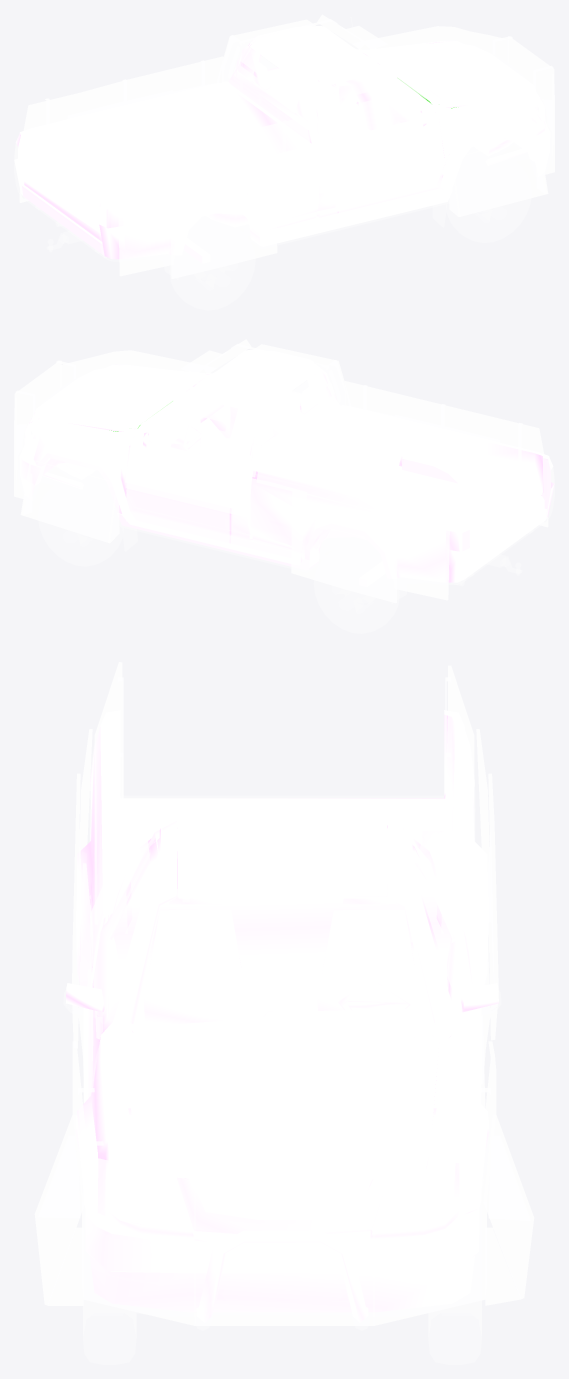
Rendered from Techie2.gltf.
The picture shows the model from 3 angles, top to bottom: view 1: azimuth 30°, elevation 25°; view 2: azimuth 150°, elevation 25°; view 3: azimuth 270°, elevation 25°; orthographic projection. The views are drawn at different scales.
Parts seen in each view (by area): view 1: Technical_2Seater_Col, SM_Technical_2Seater_Armour_104, 8001, 8001_3, 8001_1; view 2: Technical_2Seater_Col, SM_Technical_2Seater_Armour_104, 8001, 8001_3; view 3: Technical_2Seater_Col, SM_Technical_2Seater_Armour_104, 8001, 8001_3, 8001_1, Technical_2Seater_Col_1.
Boxes of the visible parts, box(x1,y1,x2,y2) form: Technical_2Seater_Col: box(14, 26, 549, 262); SM_Technical_2Seater_Armour_104: box(19, 14, 554, 278); 8001: box(14, 17, 540, 279); 8001_3: box(170, 198, 530, 310); 8001_1: box(342, 48, 416, 106); Technical_2Seater_Col: box(20, 350, 554, 586); SM_Technical_2Seater_Armour_104: box(14, 339, 548, 603); 8001: box(28, 356, 554, 603); 8001_3: box(39, 521, 399, 633); Technical_2Seater_Col: box(66, 710, 498, 1321); SM_Technical_2Seater_Armour_104: box(34, 662, 534, 1325); 8001: box(63, 745, 500, 1330); 8001_3: box(83, 1059, 481, 1364); 8001_1: box(109, 865, 441, 1004); Technical_2Seater_Col_1: box(110, 850, 454, 1002).
Size of what is drawn, in the model's own units: 5.44 by 2.05 by 2.43.
